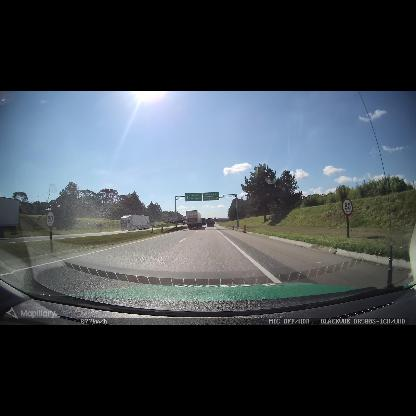O-MP: (161, 226, 164, 233), (244, 224, 246, 231)
R-19: (342, 198, 353, 216), (46, 211, 55, 228)
